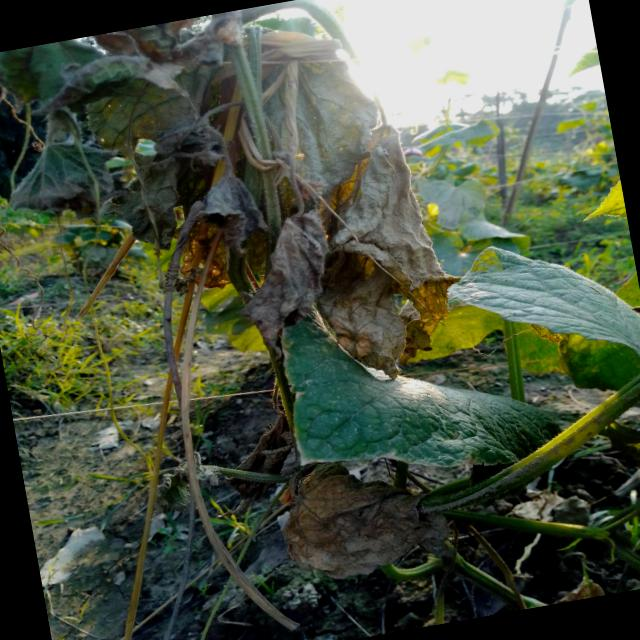cucumber_bacterial: (234, 150, 580, 513), (0, 39, 220, 268), (186, 0, 422, 204), (321, 104, 444, 316)
